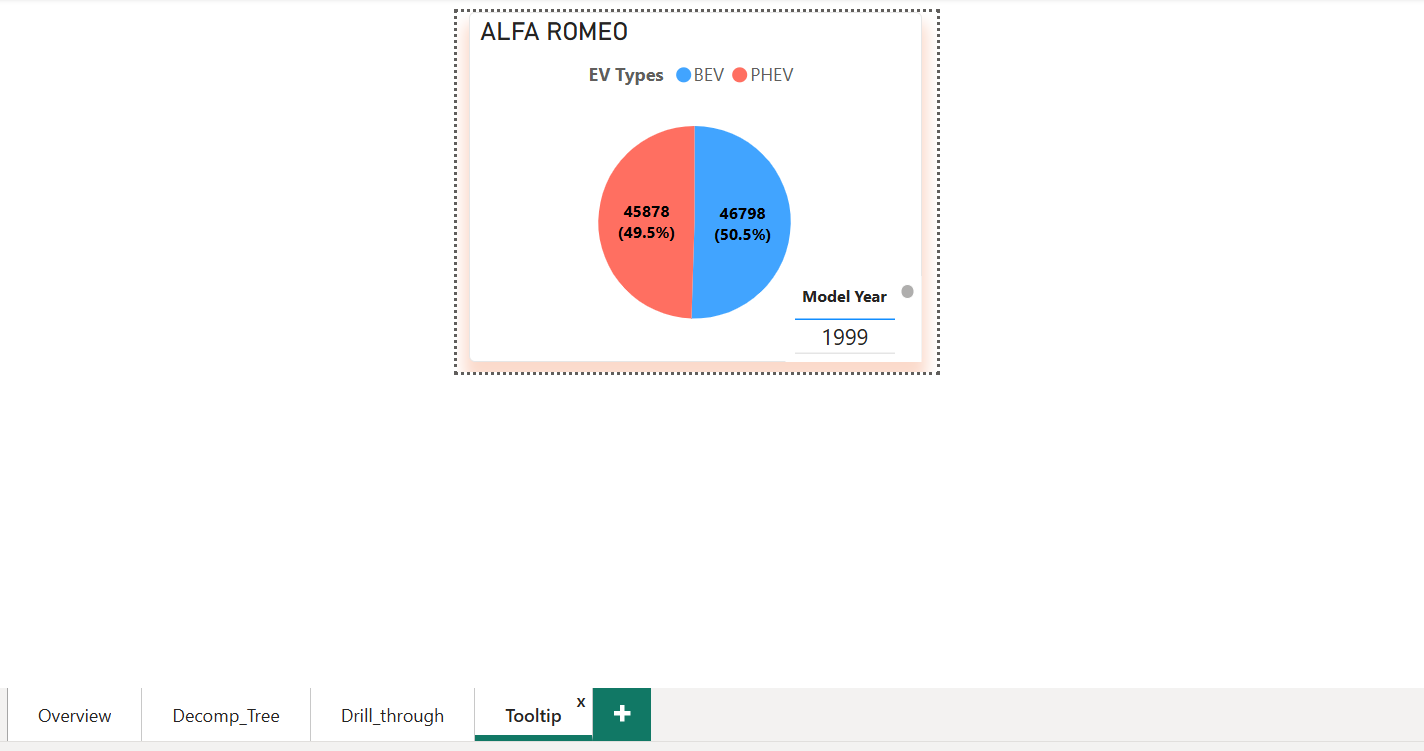

The page's visual inventory and layout, read from the dashboard file:
{"tool":"powerbi","page":{"name":"Tooltip","canvas":[320,240],"ordinal":3},"visuals":[{"type":"pieChart","fields":{"Category":["EV_Dataset.Electric Vehicle Type"],"Y":["Measure_.Type-1_BEV","Measure_.Type-2_PHEV"]},"box":[8,0,302,233],"z":0},{"type":"tableEx","fields":{"Values":["EV_Dataset.Model Year"]},"box":[219,176,91,57],"z":1000}]}

Visuals, with their boxes on the page's 320x240 design canvas (x1, y1, x2, y2). These are canvas units, not pixel positions in the 1424x751 screenshot, which may show the page scaled, cropped or inside an application window:
pieChart - EV_Dataset.Electric Vehicle Type x Measure_.Type-1_BEV: BBox(8, 0, 310, 233)
tableEx - EV_Dataset.Model Year: BBox(219, 176, 310, 233)
